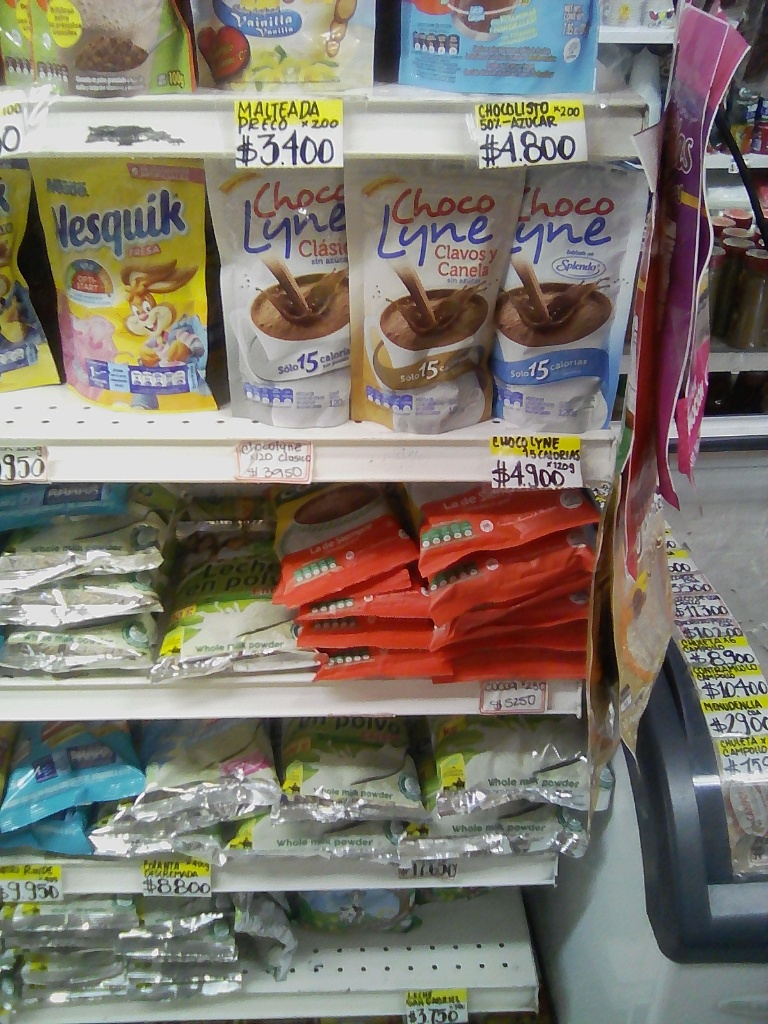COL0170305DYP20000: (28, 150, 218, 430)
